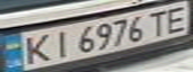6: (72, 22, 100, 54), (124, 11, 151, 43)
7: (109, 16, 133, 47)
9: (93, 20, 115, 52)
E: (160, 2, 193, 34)
I: (45, 28, 75, 60)
K: (15, 32, 57, 65)
T: (142, 7, 172, 37)
